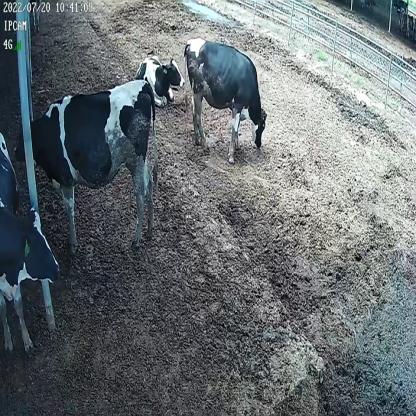cow: (12, 74, 159, 257), (0, 125, 62, 374), (183, 35, 269, 164), (134, 52, 185, 112)
